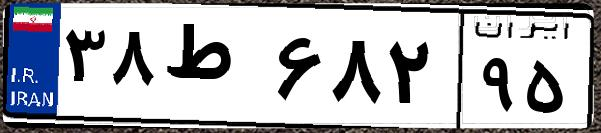2: (385, 28, 445, 110)
3: (57, 26, 110, 100)
5: (525, 38, 570, 115)
6: (270, 28, 330, 110)
8: (330, 28, 385, 110), (110, 28, 158, 98)
9: (475, 38, 525, 113)
ط: (158, 20, 270, 120)
